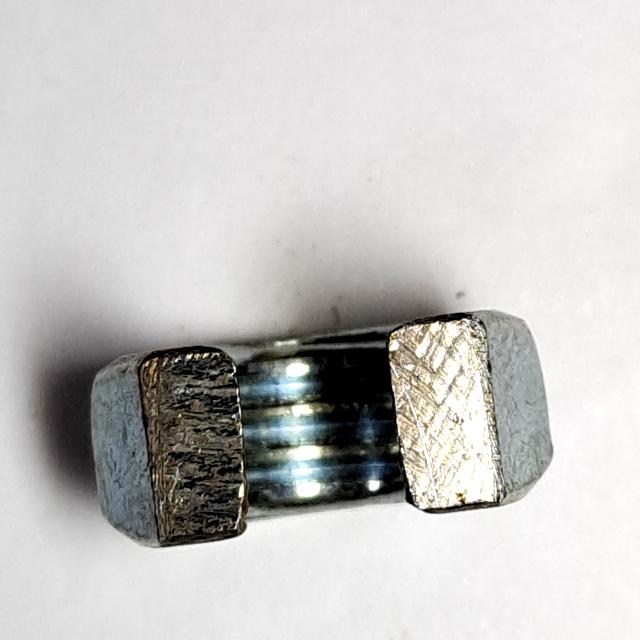Side-Fracture: (83, 297, 564, 565)
